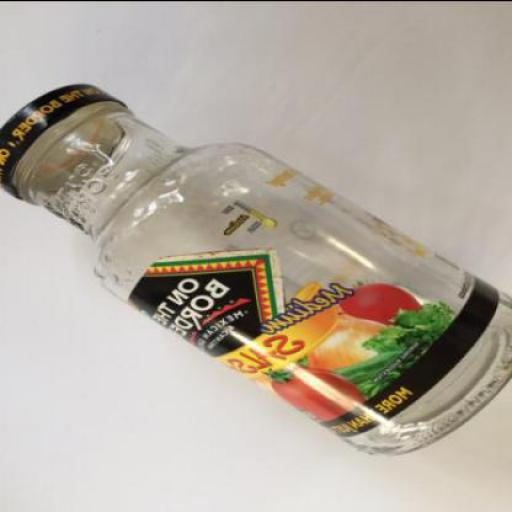glass: (15, 102, 511, 458)
metal: (1, 84, 132, 197)
